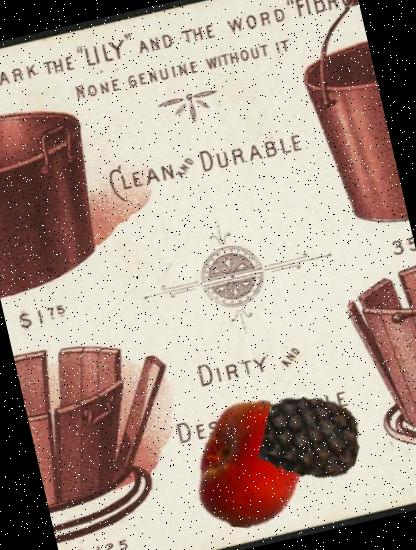Nectarine: (175, 386, 330, 540)
Pineapple: (255, 380, 370, 495)
